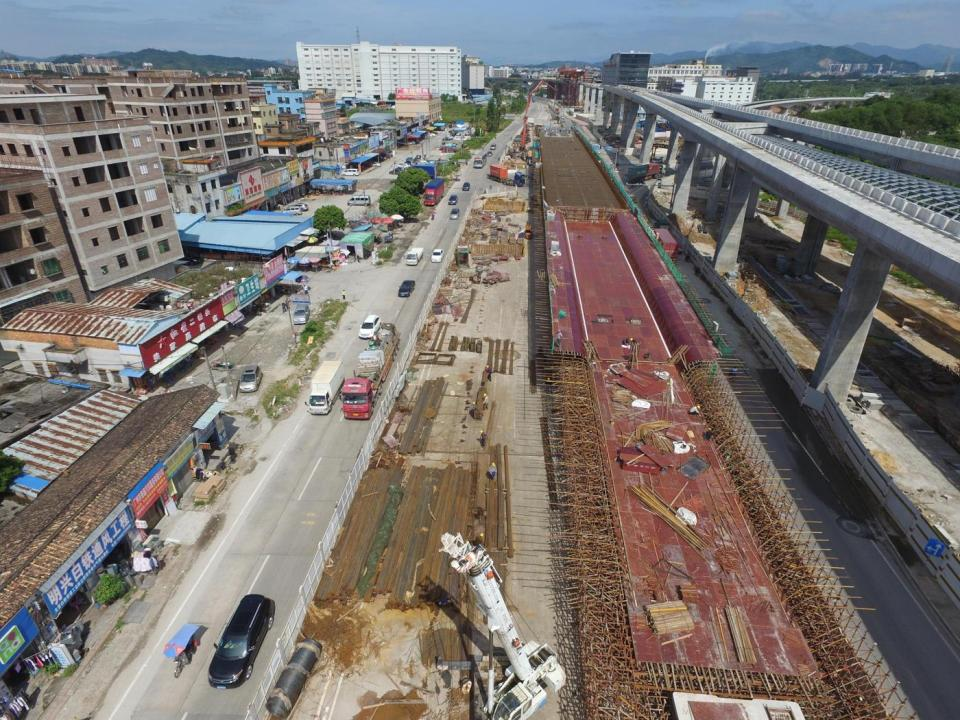bus: (472, 152, 487, 168)
car: (205, 593, 272, 687), (239, 365, 263, 393), (358, 314, 381, 339), (294, 303, 309, 324), (398, 280, 413, 296), (286, 203, 308, 212), (431, 249, 443, 263), (448, 206, 460, 220), (448, 194, 458, 204), (397, 163, 412, 169), (403, 160, 416, 166), (462, 182, 470, 190), (368, 162, 380, 167), (389, 170, 403, 174), (490, 144, 496, 150), (405, 141, 416, 144), (487, 151, 492, 156)
truck: (340, 330, 400, 418), (305, 360, 344, 413), (642, 221, 679, 269), (628, 162, 668, 186), (487, 164, 525, 187), (422, 178, 446, 206), (406, 247, 424, 265), (439, 144, 458, 152), (532, 98, 536, 102)
van: (347, 194, 370, 206), (281, 207, 302, 215), (341, 168, 360, 176)
